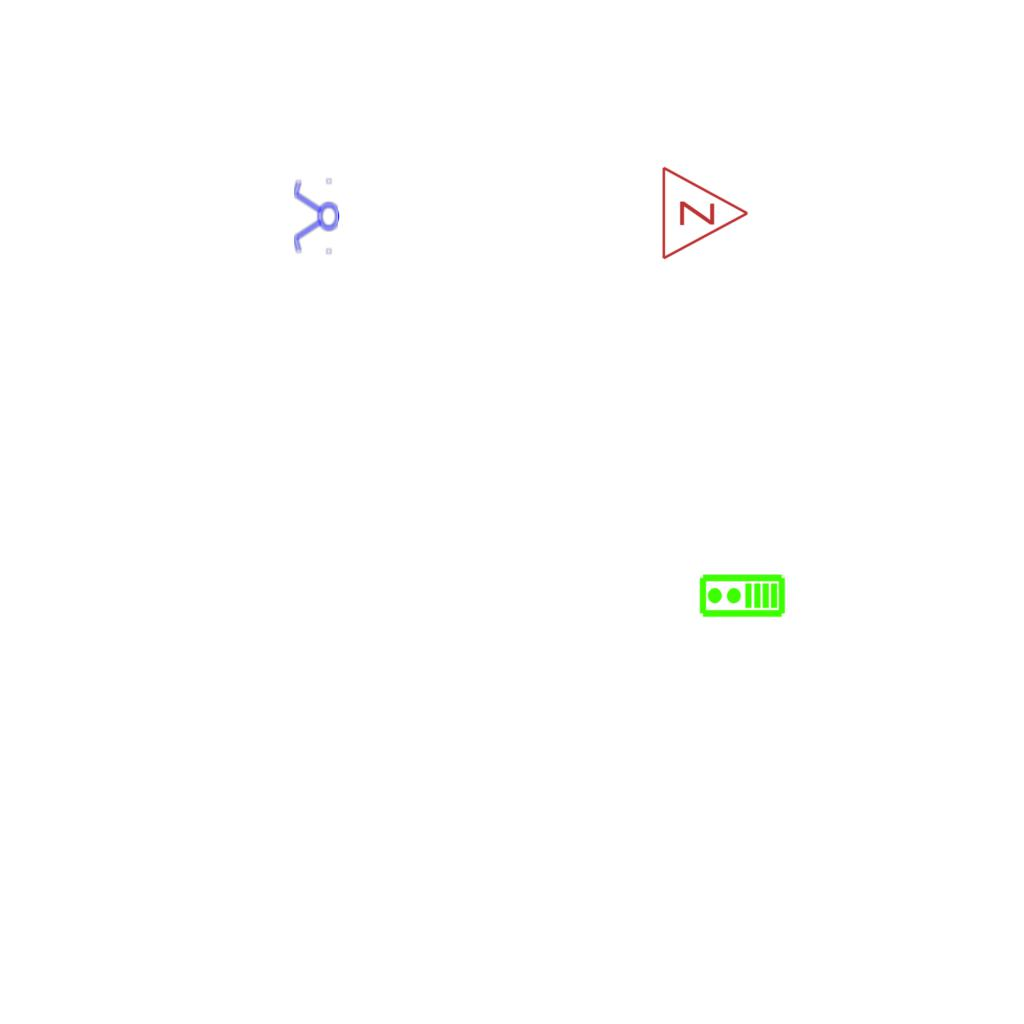Gegensprechanlage_mit_Video: (698, 573, 786, 620)
Serienschalter: (292, 175, 340, 259)
Zimmersignalleuchte: (655, 163, 755, 261)
